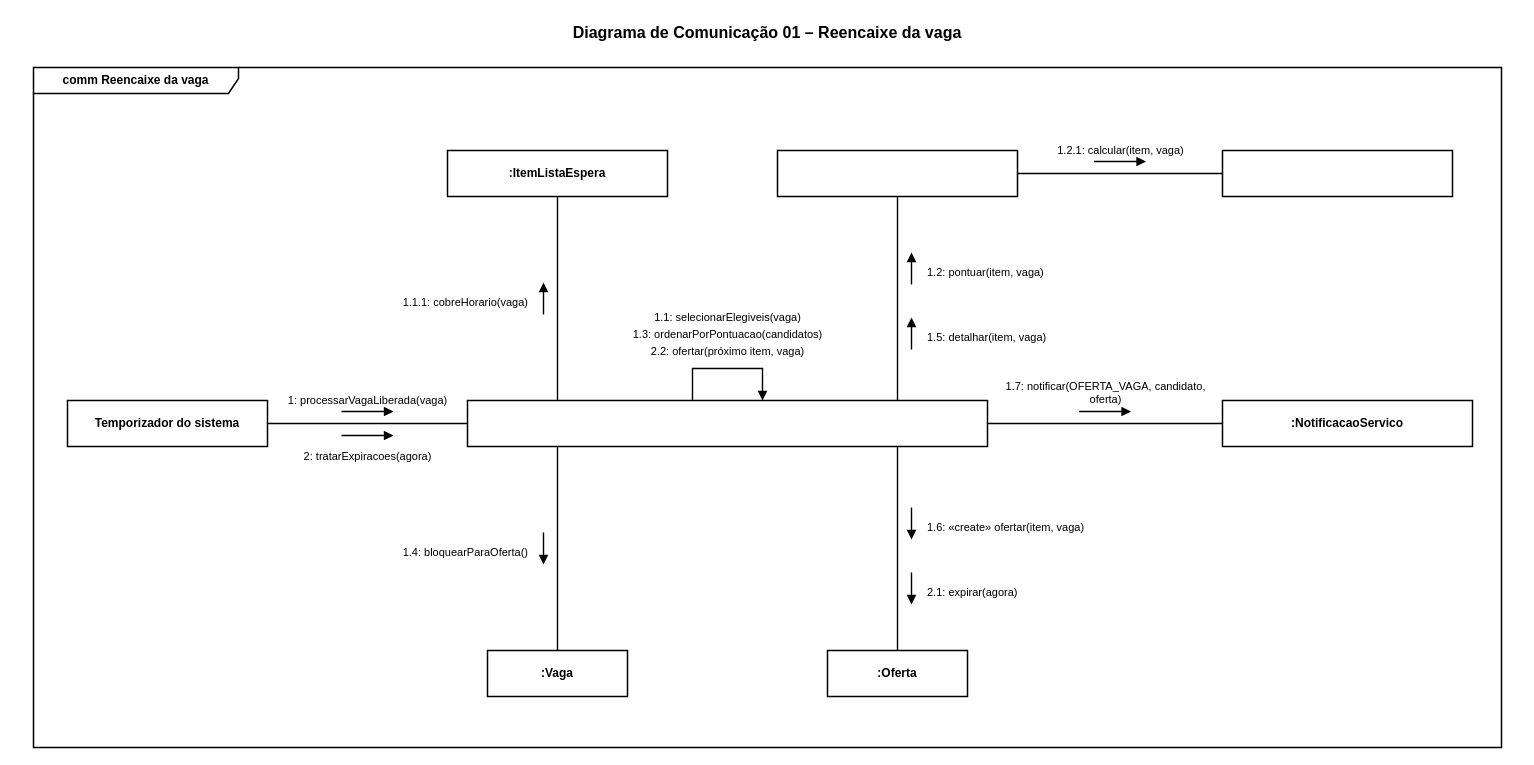
The diagram is 1534 pixels wide and 765 high, and some of its shapes have lost their labels. Here are the shapes that lost their labels. From the top down, the centre of each, then its label:
At (897,173): ":PoliticaPriorizacao".
At (1337,173): ":CriterioPontuacao".
At (727,423): ":MotorReencaixe".
